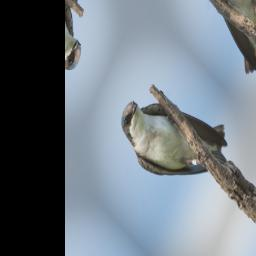Swallow: (112, 46, 238, 228)
